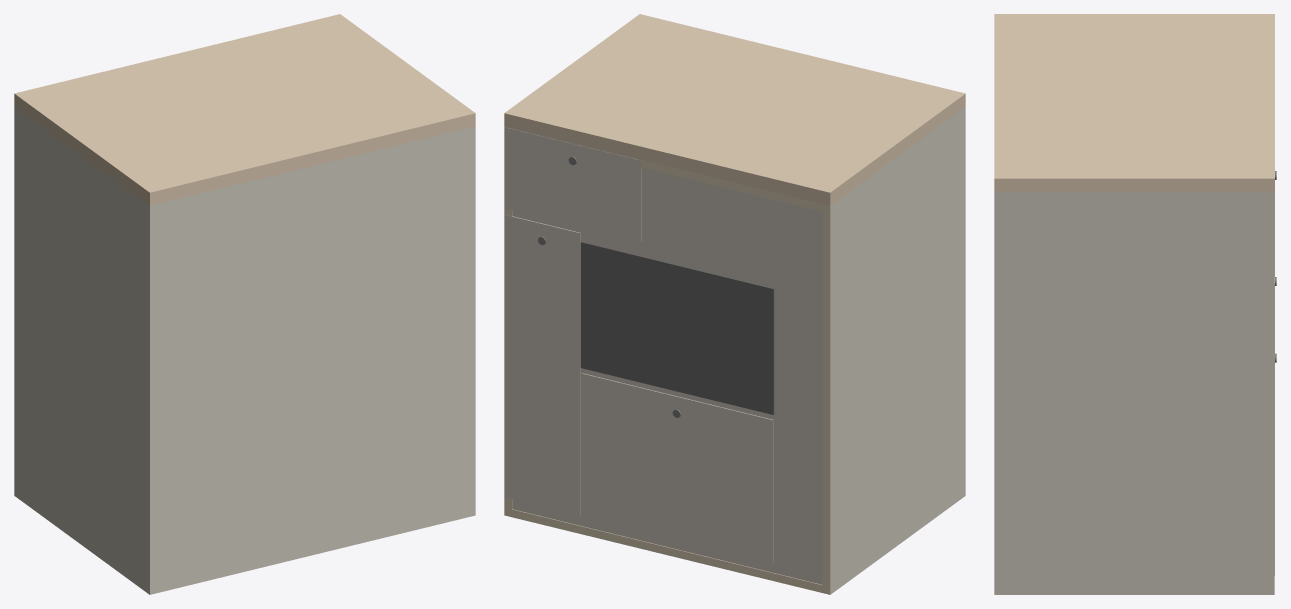
File: v2-real-sink-0.glb
3 renders of one model, left to right at view 1: azimuth 30°, elevation 25°; view 2: azimuth 150°, elevation 25°; view 3: azimuth 270°, elevation 25°, orthographic. The views are drawn at different scales.
Bounding box in the file's own units: 780 × 920 × 565.
